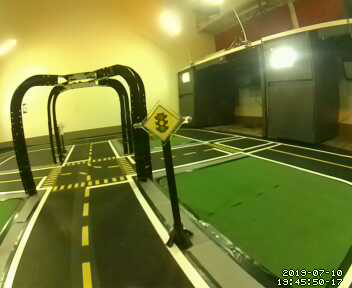Traffic light sign: (144, 102, 180, 141)
